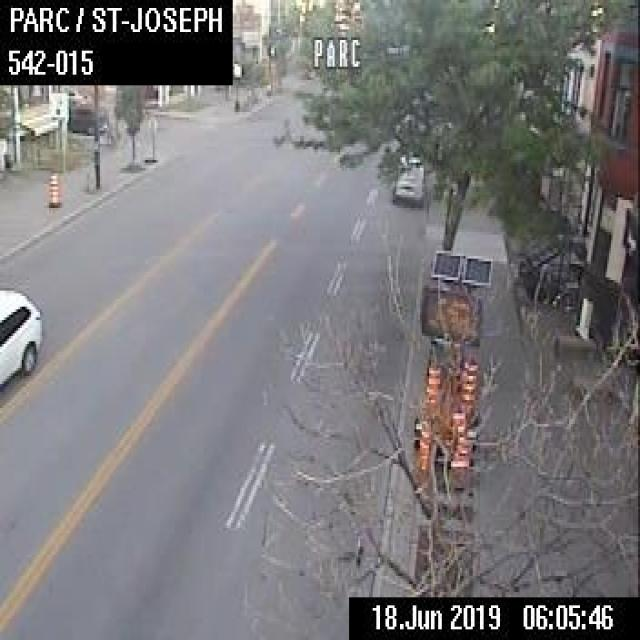construction: (411, 248, 492, 465), (449, 414, 470, 480), (426, 362, 441, 417), (414, 424, 430, 470), (462, 361, 476, 406), (48, 169, 58, 205)
vehicle: (0, 280, 45, 392), (390, 151, 427, 204), (67, 103, 107, 133), (68, 85, 90, 104)
